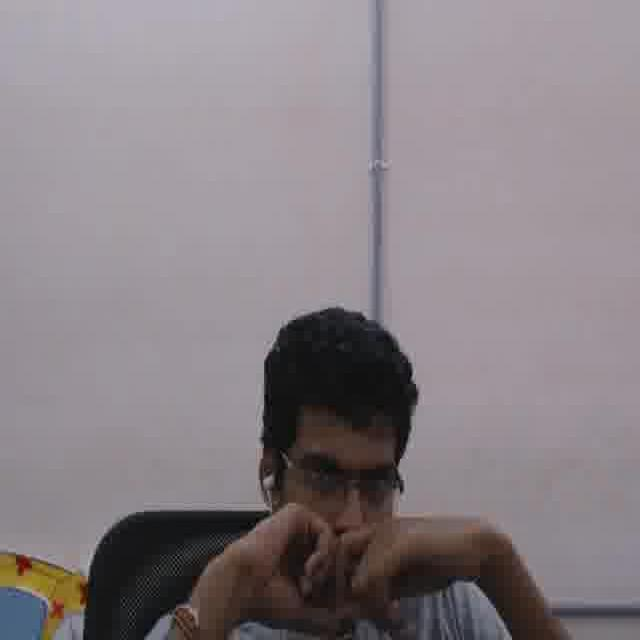Confusion: (289, 409, 393, 588)
